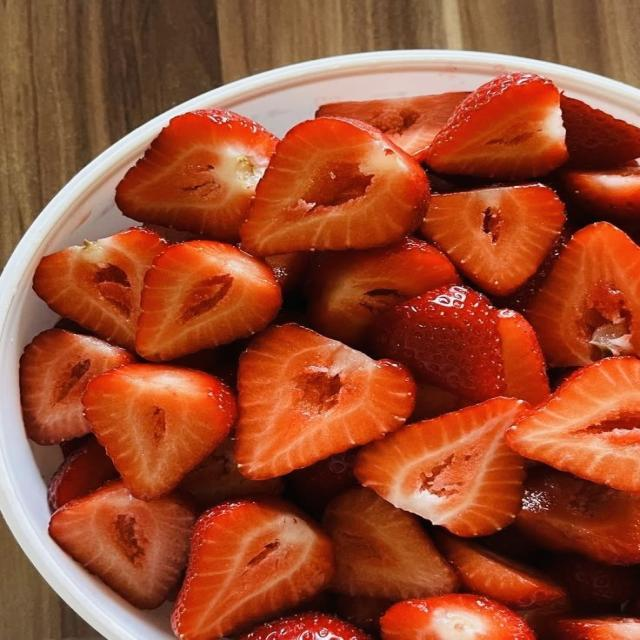strawberry sliced: (235, 324, 414, 479), (241, 118, 429, 255), (355, 398, 528, 536), (173, 498, 333, 639), (116, 109, 277, 240), (83, 364, 236, 499), (49, 481, 195, 608), (507, 357, 639, 491), (136, 241, 281, 360), (307, 238, 460, 345), (420, 184, 565, 296), (527, 222, 639, 366), (34, 228, 166, 350), (374, 286, 506, 403), (323, 487, 458, 600), (427, 73, 566, 180), (20, 329, 135, 444), (515, 466, 639, 564), (434, 531, 566, 609), (316, 92, 468, 158), (179, 438, 284, 509), (493, 226, 575, 313), (380, 594, 535, 639), (560, 94, 639, 168), (545, 554, 639, 613), (48, 437, 117, 510), (498, 310, 550, 405), (287, 449, 357, 518), (561, 166, 639, 223), (239, 612, 370, 639), (408, 381, 469, 422), (335, 595, 393, 637), (549, 617, 639, 639), (265, 252, 311, 293)
